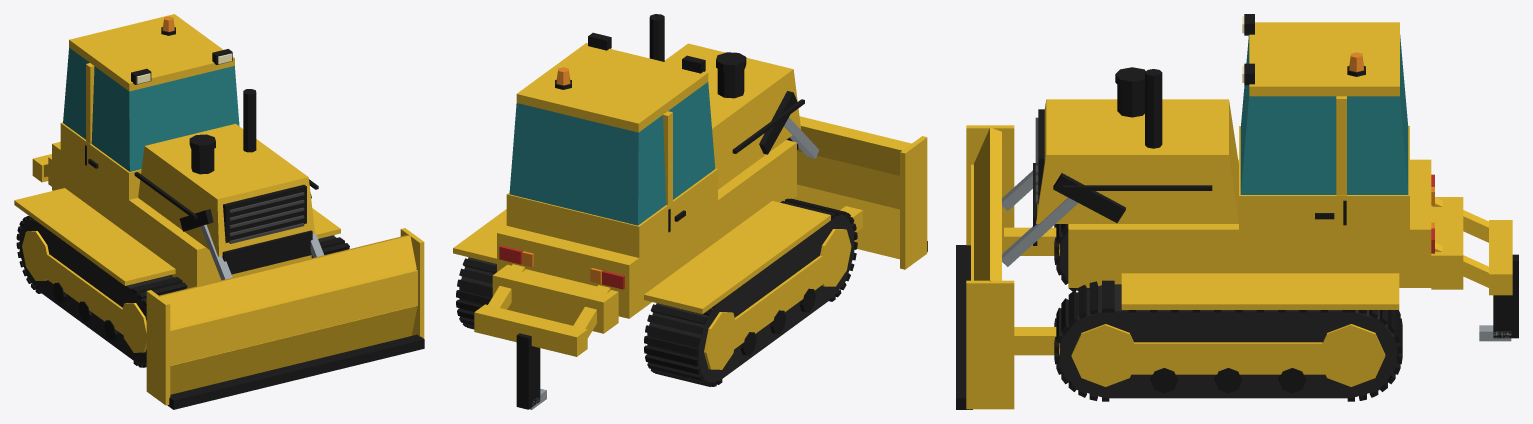
The model's file is Vehicle_Bulldozer.fbx.
3 views of the same model, side by side, from view 1: azimuth 30°, elevation 25°; view 2: azimuth 150°, elevation 25°; view 3: azimuth 270°, elevation 25° (orthographic). The views are drawn at different scales.
Parts seen in each view (by area): view 1: Vehicle_Bulldozer; view 2: Vehicle_Bulldozer; view 3: Vehicle_Bulldozer.
Part boxes in pixels (box(x1,y1,x2,y2)): Vehicle_Bulldozer: box(14, 14, 424, 409); Vehicle_Bulldozer: box(453, 14, 927, 409); Vehicle_Bulldozer: box(956, 14, 1518, 409).
Bounding box in the file's own units: 3.5 × 3.11 × 5.27.
